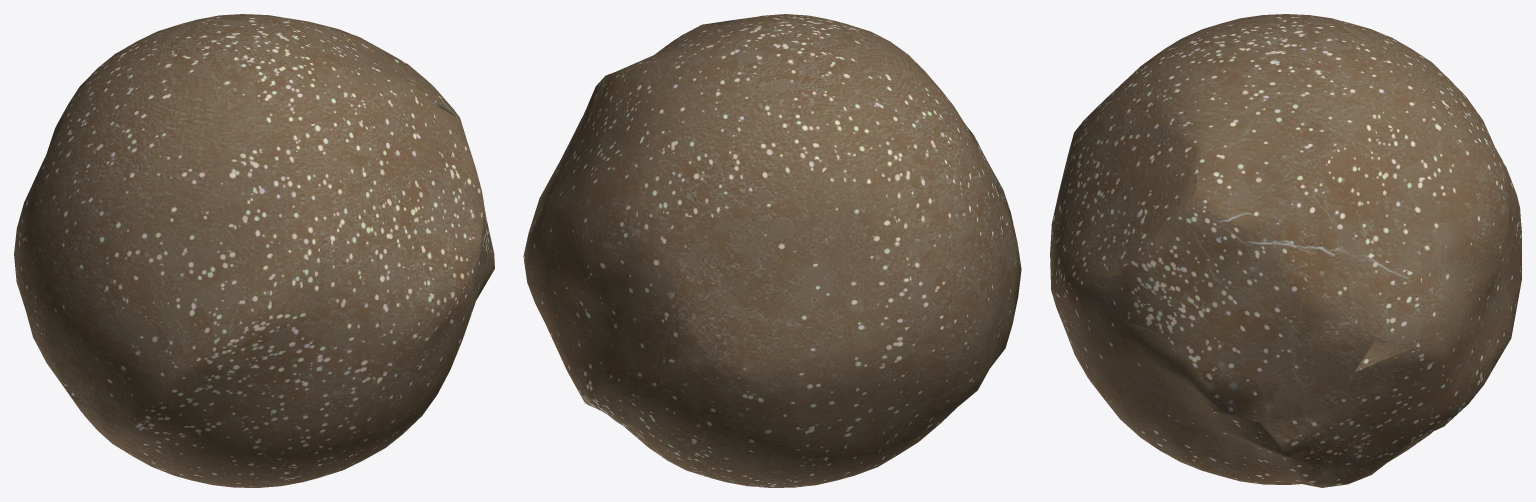
The model's file is q3d-08-mid-l100.glb.
3 views of the same model, side by side, from view 1: azimuth 30°, elevation 25°; view 2: azimuth 150°, elevation 25°; view 3: azimuth 270°, elevation 25° (orthographic).
Size of the model in its own units: 1.35 by 1.34 by 1.35.
Materials: 1 (1 with a texture image).
